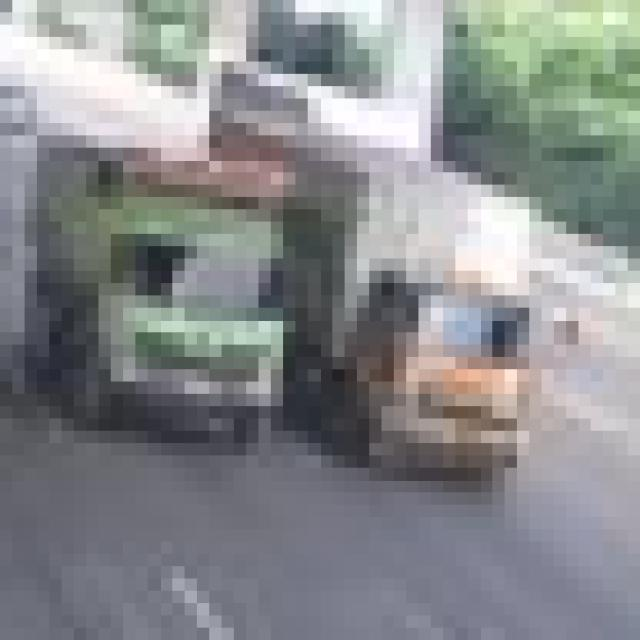truck: (22, 90, 313, 482), (337, 135, 579, 509)
